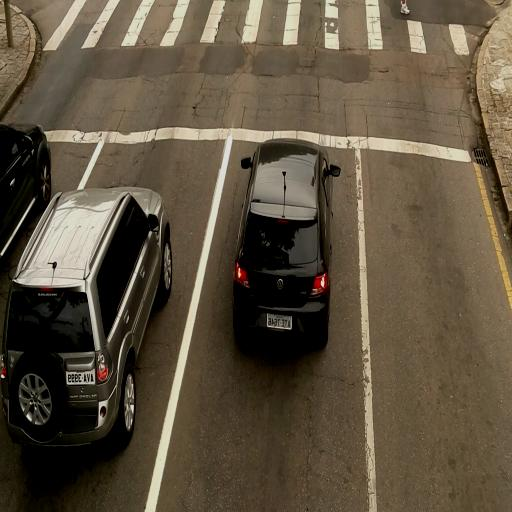car: (5, 186, 172, 446), (230, 137, 338, 346), (0, 118, 54, 273)
